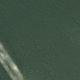ship: (0, 35, 25, 77)
